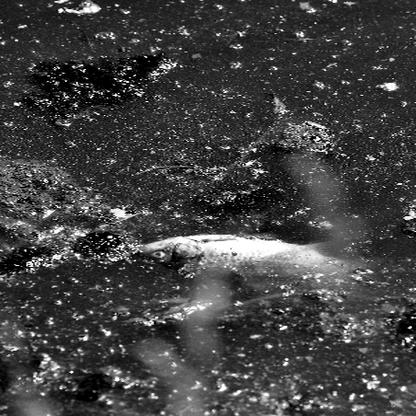deceased fish: (141, 233, 356, 287)
